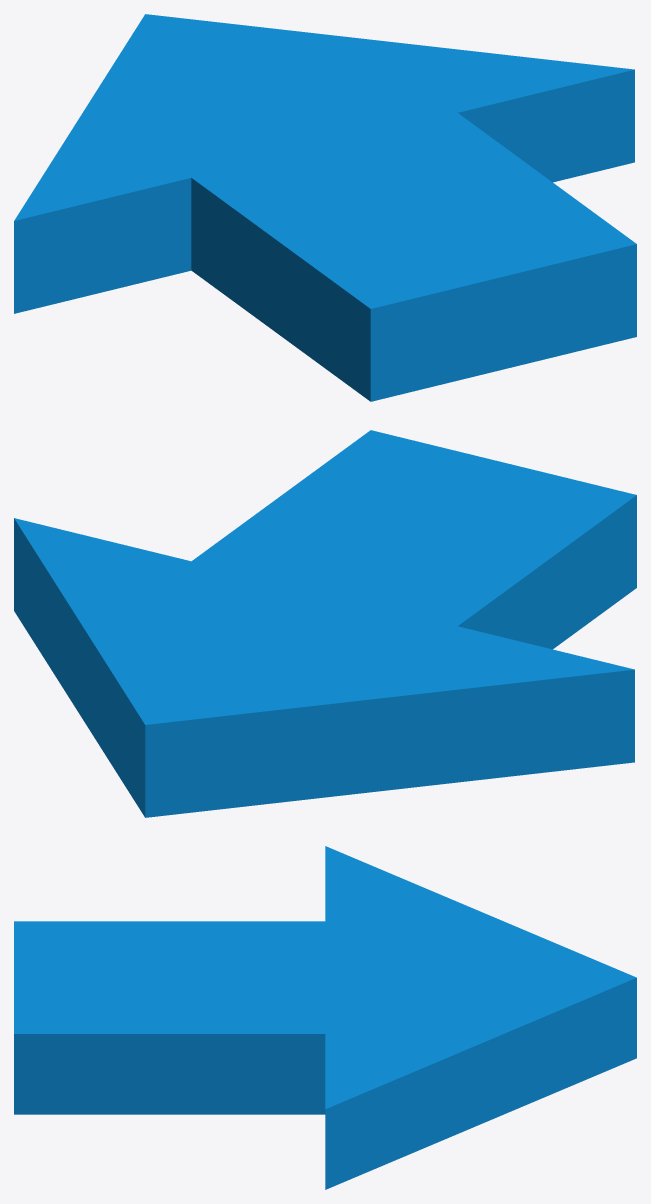
The model's file is tile_arrow.glb.
The picture shows the model from 3 angles, top to bottom: view 1: azimuth 30°, elevation 25°; view 2: azimuth 150°, elevation 25°; view 3: azimuth 270°, elevation 25°; orthographic projection. The views are drawn at different scales.
Visible parts, largest first — view 1: Arrow; view 2: Arrow; view 3: Arrow.
Boxes of the visible parts, bbox=[...] form: Arrow: bbox=[14, 14, 636, 401]; Arrow: bbox=[14, 430, 636, 817]; Arrow: bbox=[14, 846, 636, 1189].
Bounding box in the file's own units: 1.4 × 0.2 × 1.4.
